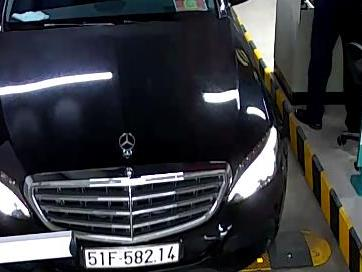number: (83, 243, 179, 269)
